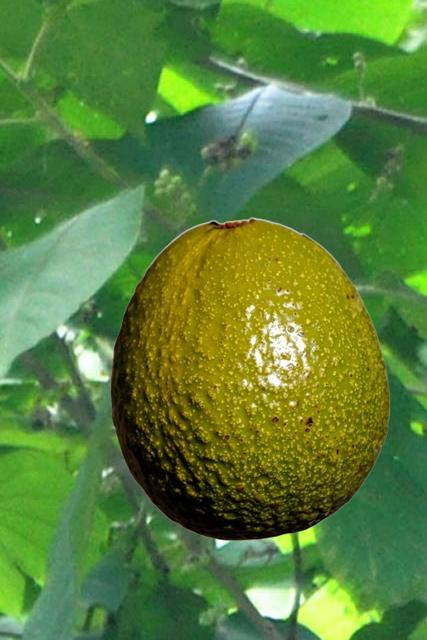avocado: (110, 217, 389, 539)
